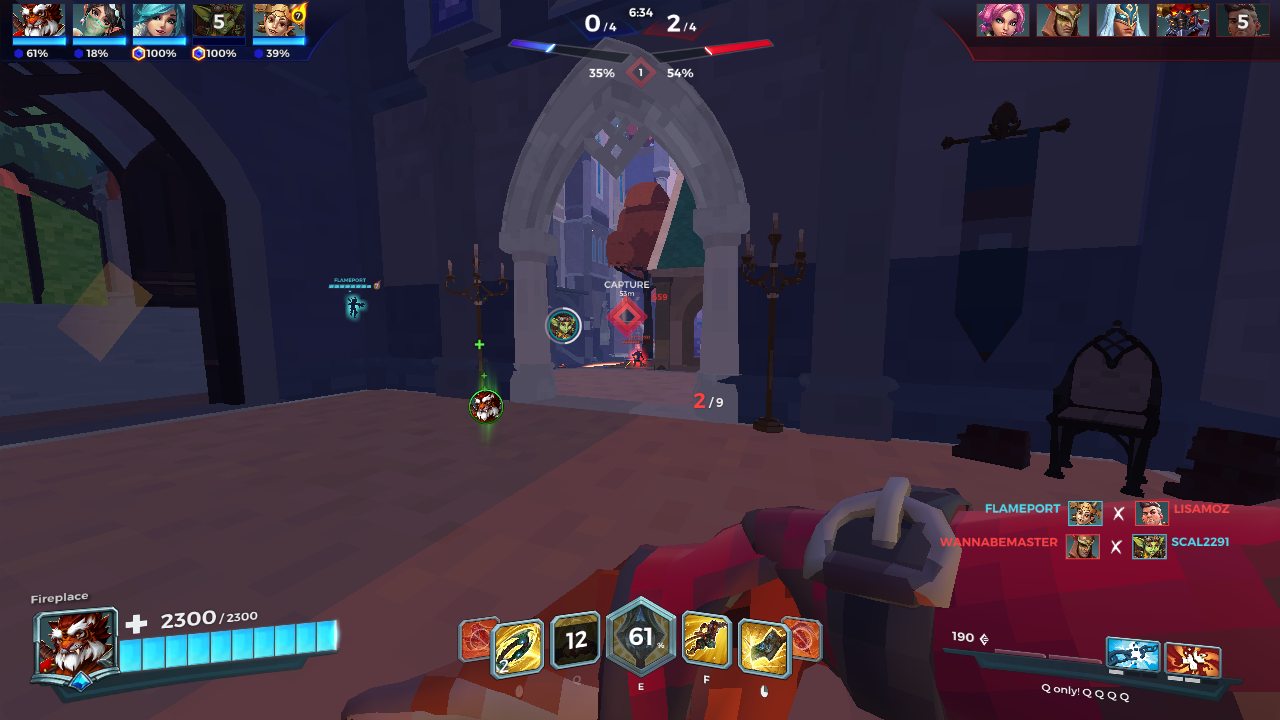model: (631, 347, 644, 368)
